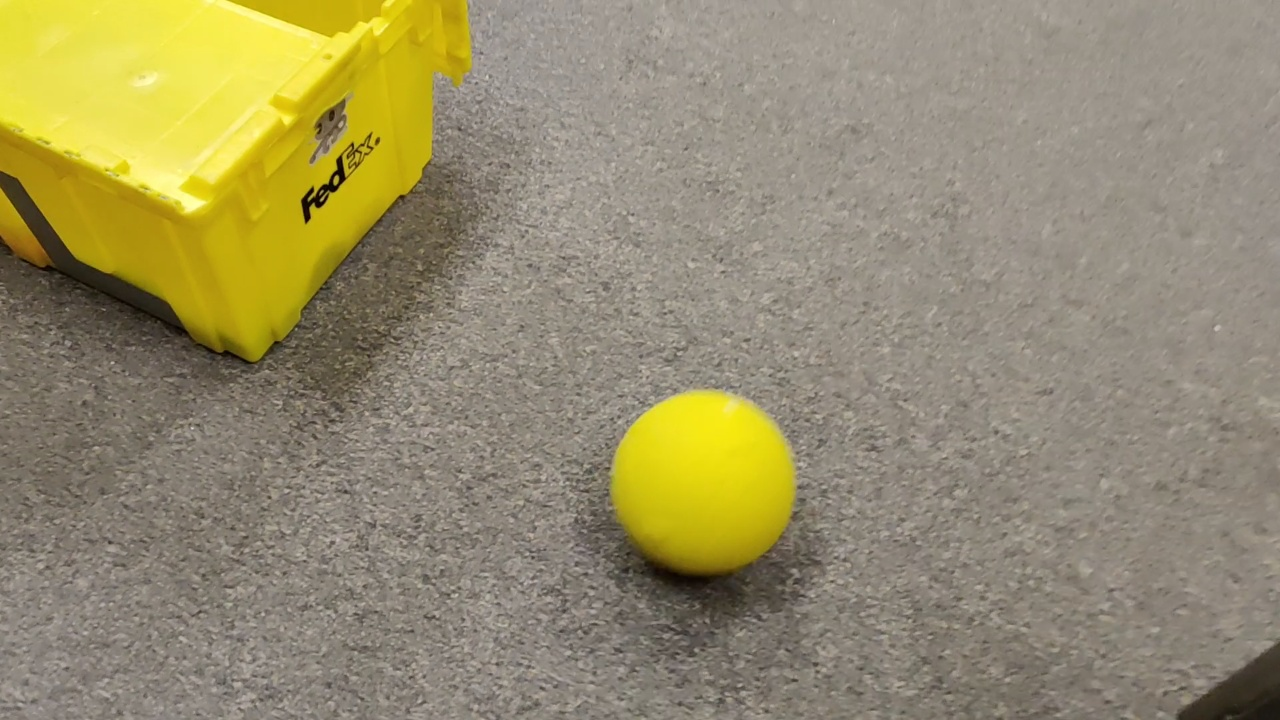Ball: (613, 393, 799, 579)
